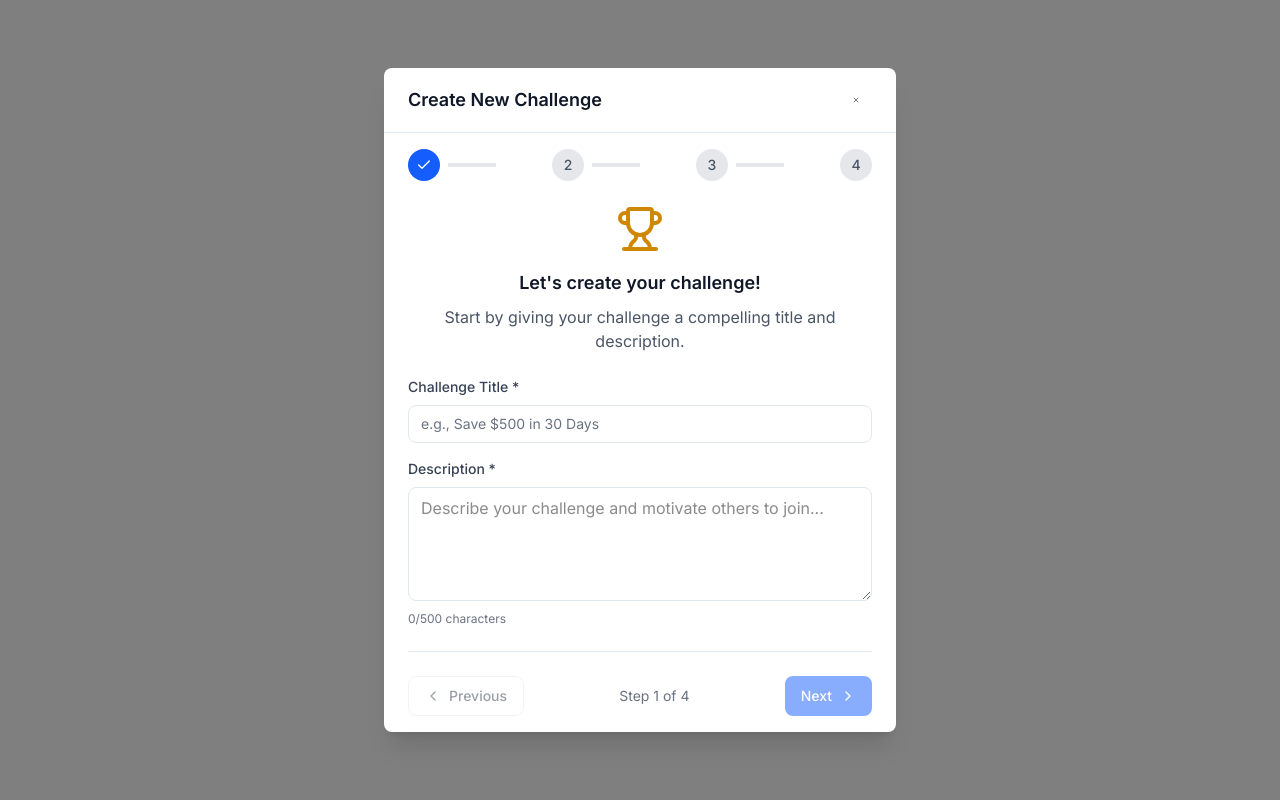
Test: ChallengeCreateWizard › validates form fields
This screenshot has width=1280, height=800.
expect the button "Next" is disabled: met, box [785,676,872,716]
# Fill in title only
Type "Test Challenge" into the field with placeholder "e.g., Save $500 in 30 Days" at (640, 424), box [408,405,872,443]
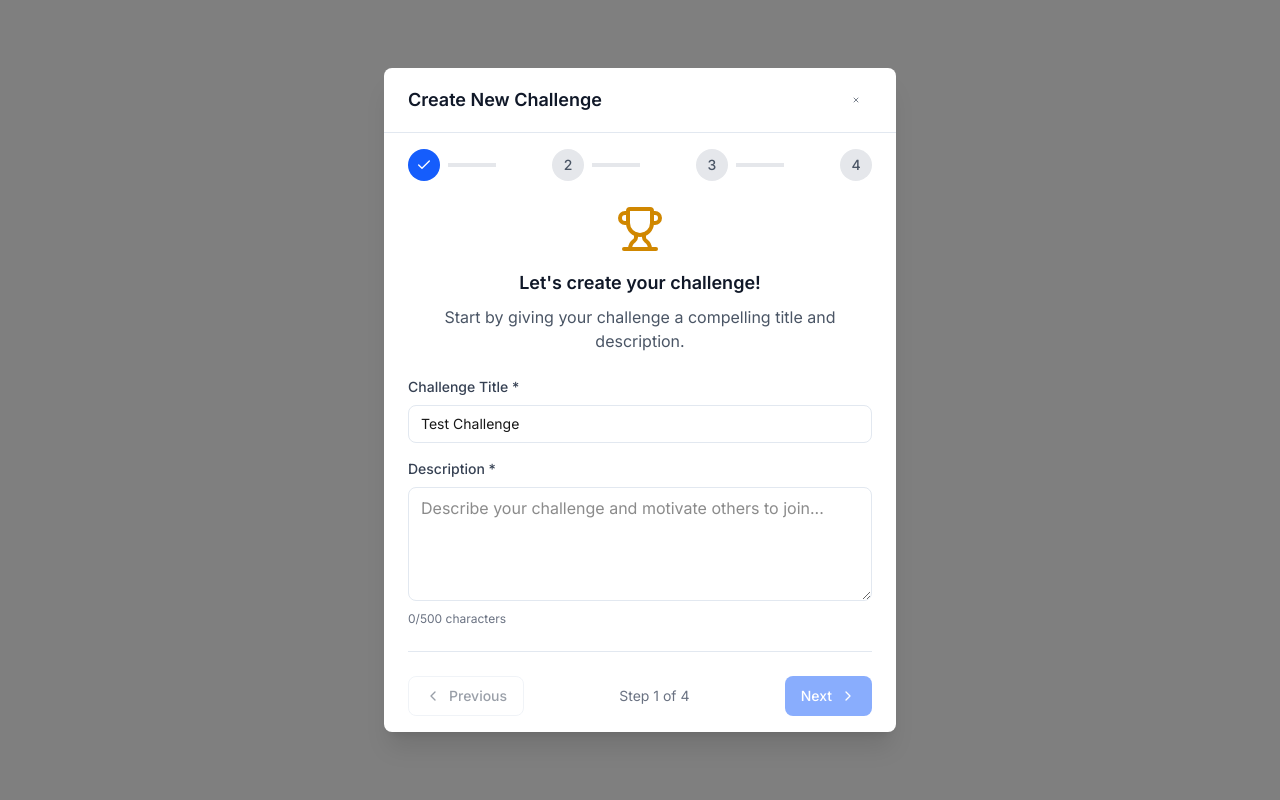
expect the button "Next" is disabled: met, box [785,676,872,716]
# Fill in description
Type "Test description" into the text box with placeholder "Describe your challenge and motivate others to join..." at (640, 544), box [408,487,872,601]
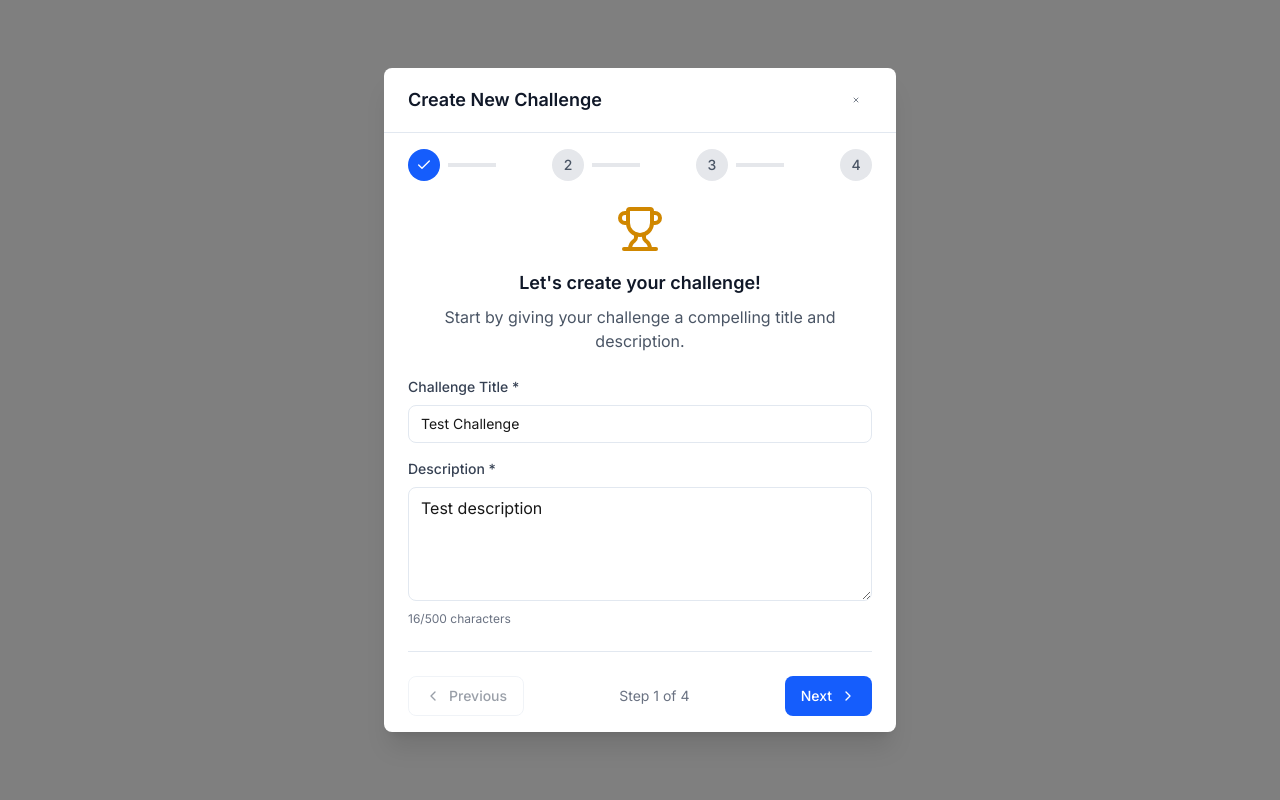
expect the button "Next" is enabled: met, box [785,676,872,716]
